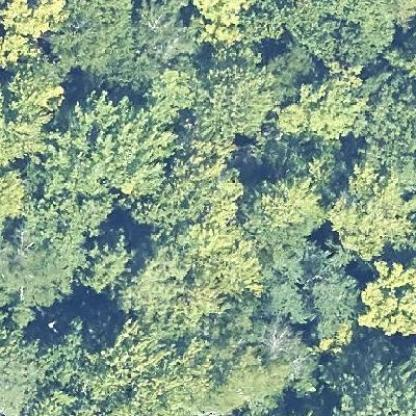tree-top: (66, 90, 176, 194), (321, 162, 411, 257), (262, 242, 363, 326), (274, 62, 362, 145), (191, 64, 277, 136), (328, 350, 415, 415), (351, 254, 415, 339), (242, 172, 326, 236), (133, 0, 190, 62), (80, 234, 135, 296), (188, 0, 245, 44), (0, 0, 70, 30), (0, 162, 25, 226)
